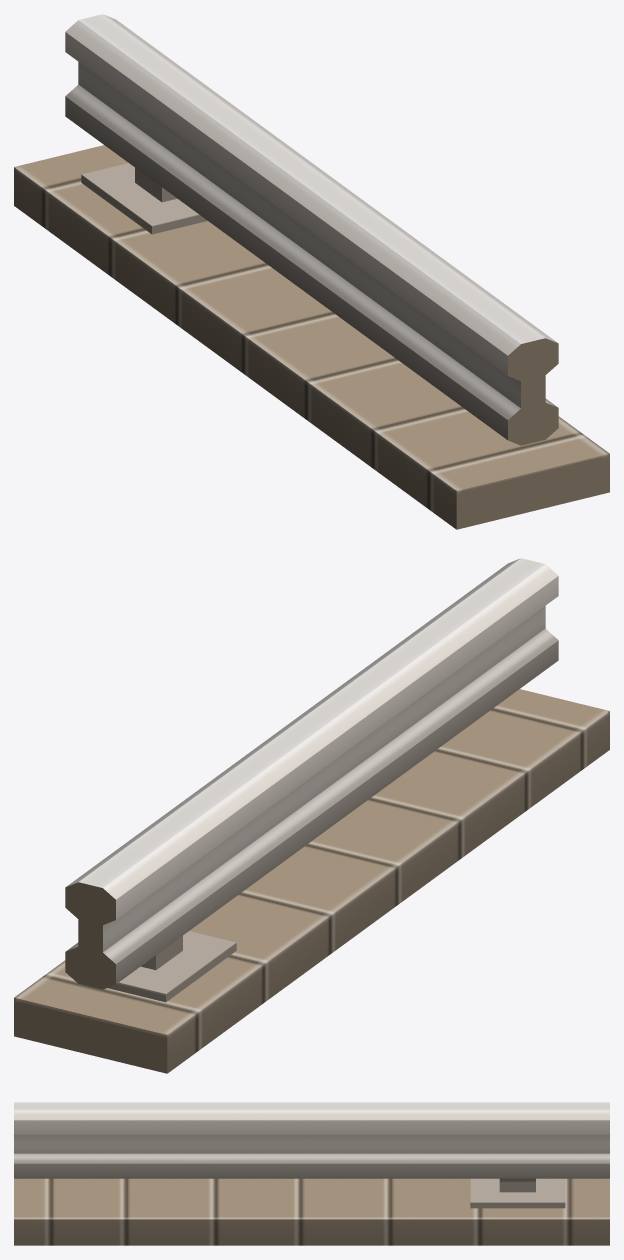
The model's file is Barrier_01.fbx.
The picture shows the model from 3 angles, top to bottom: view 1: azimuth 30°, elevation 25°; view 2: azimuth 150°, elevation 25°; view 3: azimuth 270°, elevation 25°; orthographic projection. The views are drawn at different scales.
Parts seen in each view (by area): view 1: Barrier_Middle; view 2: Barrier_Middle; view 3: Barrier_Middle.
Part boxes in pixels (x1,y1,x2,y2): Barrier_Middle: (14, 14, 609, 529); Barrier_Middle: (14, 558, 609, 1073); Barrier_Middle: (14, 1102, 609, 1245).
Size of the model in its own units: 80 by 84.73 by 400.
